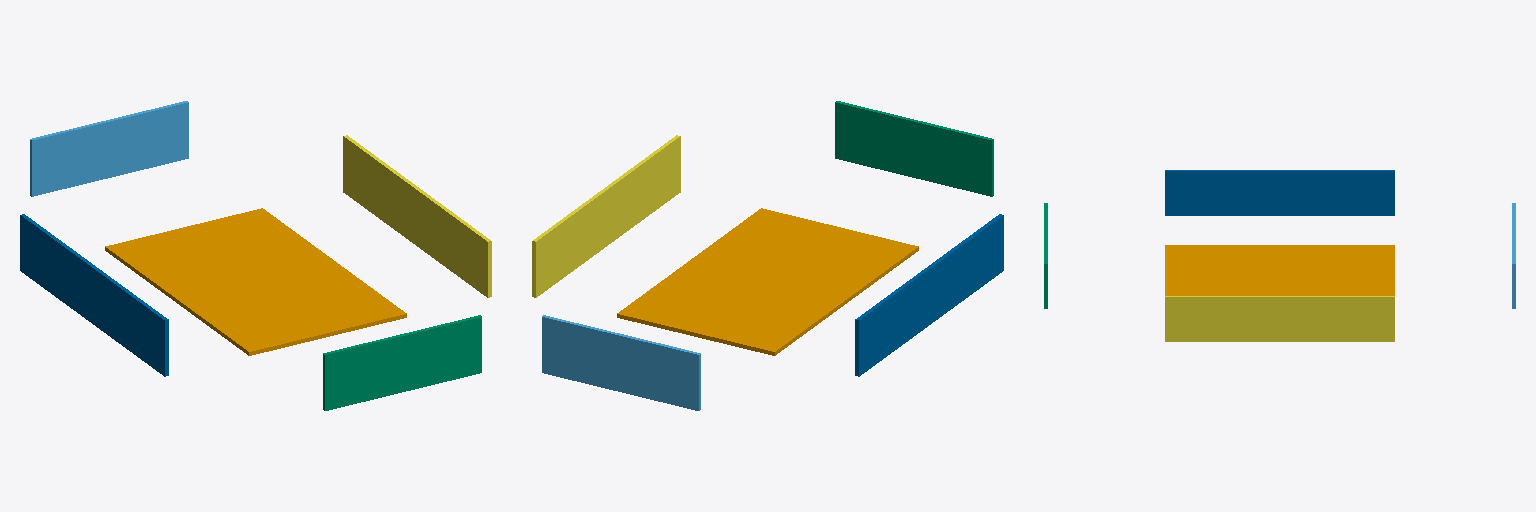
robot.urdf — shelf:
<?xml version="1.0" ?>
<!-- =================================================================================== -->
<!-- |    This document was autogenerated by xacro from modifiable_container.urdf.xacro | -->
<!-- |    EDITING THIS FILE BY HAND IS NOT RECOMMENDED                                 | -->
<!-- =================================================================================== -->
<robot name="shelf" xmlns:xacro="http://www.ros.org/wiki/xacro">
  <!-- example -->
  <!-- <xacro:create_box name="control_box" mass="15" x="0.268" y="0.475" z="0.423">
    <origin xyz="0 0 ${0.423/2}" rpy="0 0 0" />
  </xacro:create_box> -->
  <link name="container_base">
    <inertial>
      <mass value="5"/>
      <origin rpy="0 0 0" xyz="0 0 0.005"/>
      <!-- <origin xyz="0 0 ${0.423/2}" rpy="0 0 0" /> -->
      <inertia ixx="0.176083333333" ixy="0" ixz="0" iyy="0.0700833333333" iyz="0" izz="0.246083333333"/>
    </inertial>
    <collision>
      <origin rpy="0 0 0" xyz="0 0 0.005"/>
      <!-- <origin xyz="0 0 ${0.423/2}" rpy="0 0 0" /> -->
      <geometry>
        <box size="0.41 0.65 0.01"/>
      </geometry>
    </collision>
    <visual>
      <origin rpy="0 0 0" xyz="0 0 0.005"/>
      <!-- <origin xyz="0 0 ${0.423/2}" rpy="0 0 0" /> -->
      <geometry>
        <box size="0.41 0.65 0.01"/>
      </geometry>
    </visual>
  </link>
  <link name="container_right">
    <inertial>
      <mass value="5"/>
      <origin rpy="0 0 0" xyz="0 0.33 0.07"/>
      <!-- <origin xyz="0 0 ${0.423/2}" rpy="0 0 0" /> -->
      <inertia ixx="0.00820833333333" ixy="0" ixz="0" iyy="0.0782083333333" iyz="0" izz="0.0700833333333"/>
    </inertial>
    <collision>
      <origin rpy="0 0 0" xyz="0 0.33 0.07"/>
      <!-- <origin xyz="0 0 ${0.423/2}" rpy="0 0 0" /> -->
      <geometry>
        <box size="0.41 0.01 0.14"/>
      </geometry>
    </collision>
    <visual>
      <origin rpy="0 0 0" xyz="0 0.33 0.07"/>
      <!-- <origin xyz="0 0 ${0.423/2}" rpy="0 0 0" /> -->
      <geometry>
        <box size="0.41 0.01 0.14"/>
      </geometry>
    </visual>
  </link>
  <link name="container_left">
    <inertial>
      <mass value="5"/>
      <origin rpy="0 0 0" xyz="0 -0.33 0.07"/>
      <!-- <origin xyz="0 0 ${0.423/2}" rpy="0 0 0" /> -->
      <inertia ixx="0.00820833333333" ixy="0" ixz="0" iyy="0.0782083333333" iyz="0" izz="0.0700833333333"/>
    </inertial>
    <collision>
      <origin rpy="0 0 0" xyz="0 -0.33 0.07"/>
      <!-- <origin xyz="0 0 ${0.423/2}" rpy="0 0 0" /> -->
      <geometry>
        <box size="0.41 0.01 0.14"/>
      </geometry>
    </collision>
    <visual>
      <origin rpy="0 0 0" xyz="0 -0.33 0.07"/>
      <!-- <origin xyz="0 0 ${0.423/2}" rpy="0 0 0" /> -->
      <geometry>
        <box size="0.41 0.01 0.14"/>
      </geometry>
    </visual>
  </link>
  <link name="container_forward">
    <inertial>
      <mass value="5"/>
      <origin rpy="0 0 0" xyz="0.21 0 0.07"/>
      <!-- <origin xyz="0 0 ${0.423/2}" rpy="0 0 0" /> -->
      <inertia ixx="0.184208333333" ixy="0" ixz="0" iyy="0.00820833333333" iyz="0" izz="0.176083333333"/>
    </inertial>
    <collision>
      <origin rpy="0 0 0" xyz="0.21 0 0.07"/>
      <!-- <origin xyz="0 0 ${0.423/2}" rpy="0 0 0" /> -->
      <geometry>
        <box size="0.01 0.65 0.14"/>
      </geometry>
    </collision>
    <visual>
      <origin rpy="0 0 0" xyz="0.21 0 0.07"/>
      <!-- <origin xyz="0 0 ${0.423/2}" rpy="0 0 0" /> -->
      <geometry>
        <box size="0.01 0.65 0.14"/>
      </geometry>
    </visual>
  </link>
  <link name="container_back">
    <inertial>
      <mass value="5"/>
      <origin rpy="0 0 0" xyz="-0.21 0 0.07"/>
      <!-- <origin xyz="0 0 ${0.423/2}" rpy="0 0 0" /> -->
      <inertia ixx="0.184208333333" ixy="0" ixz="0" iyy="0.00820833333333" iyz="0" izz="0.176083333333"/>
    </inertial>
    <collision>
      <origin rpy="0 0 0" xyz="-0.21 0 0.07"/>
      <!-- <origin xyz="0 0 ${0.423/2}" rpy="0 0 0" /> -->
      <geometry>
        <box size="0.01 0.65 0.14"/>
      </geometry>
    </collision>
    <visual>
      <origin rpy="0 0 0" xyz="-0.21 0 0.07"/>
      <!-- <origin xyz="0 0 ${0.423/2}" rpy="0 0 0" /> -->
      <geometry>
        <box size="0.01 0.65 0.14"/>
      </geometry>
    </visual>
  </link>
  <!-- <link name="world"/>
		<joint name="world_fixed" type="fixed">
			<parent link="world"/>
			<child link="container_base"/>
		</joint> -->
  <joint name="joint1" type="fixed">
    <parent link="container_base"/>
    <child link="container_right"/>
    <origin rpy="0 0 0" xyz="0 0.33 0"/>
  </joint>
  <joint name="joint2" type="fixed">
    <parent link="container_base"/>
    <child link="container_left"/>
    <origin rpy="0 0 0" xyz="0 -0.33 0"/>
  </joint>
  <joint name="joint3" type="fixed">
    <parent link="container_base"/>
    <child link="container_forward"/>
    <origin rpy="0 0 0" xyz="0.21 0 0"/>
  </joint>
  <joint name="joint4" type="fixed">
    <parent link="container_base"/>
    <child link="container_back"/>
    <origin rpy="0 0 0" xyz="-0.21 0 0"/>
  </joint>
</robot>

--- Render facts (derived) ---
3 views of the same robot in one strip: view 1: azimuth 30°, elevation 25°; view 2: azimuth 150°, elevation 25°; view 3: azimuth 270°, elevation 25° (orthographic).
Robot: shelf — 5 links, 4 joints (4 fixed); root link container_base; default pose: all joints at 0.
Links seen in each view (by area): view 1: container_base, container_right, container_left, container_forward, container_back; view 2: container_base, container_right, container_left, container_forward, container_back; view 3: container_base, container_forward, container_back.
Link boxes in pixels (left/top/right/bottom): container_base: left=105, top=208, right=406, bottom=355; container_right: left=30, top=101, right=188, bottom=196; container_left: left=323, top=315, right=481, bottom=410; container_forward: left=343, top=135, right=491, bottom=297; container_back: left=20, top=214, right=168, bottom=376; container_base: left=617, top=208, right=918, bottom=355; container_right: left=542, top=315, right=700, bottom=410; container_left: left=835, top=101, right=993, bottom=196; container_forward: left=532, top=135, right=680, bottom=297; container_back: left=855, top=214, right=1003, bottom=376; container_base: left=1165, top=245, right=1394, bottom=295; container_forward: left=1165, top=296, right=1394, bottom=341; container_back: left=1165, top=170, right=1394, bottom=215.
Size in the robot's own frame: 0.85 by 1.33 by 0.14 metres.
Geometry: primitives only (box / cylinder / sphere), no mesh files.